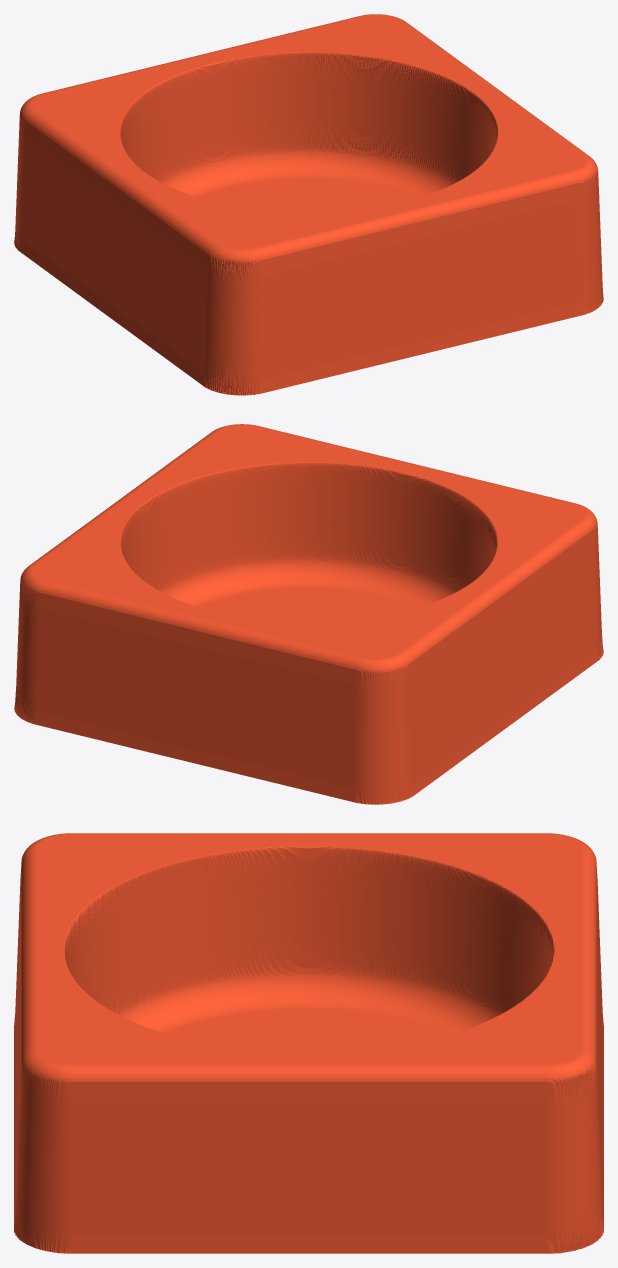
The model's file is mold.glb.
3 views of the same model, one above another, from view 1: azimuth 30°, elevation 25°; view 2: azimuth 150°, elevation 25°; view 3: azimuth 270°, elevation 25° (orthographic). The views are drawn at different scales.
Parts seen in each view (by area): view 1: geometry_0; view 2: geometry_0; view 3: geometry_0.
Part boxes in pixels (<box>): geometry_0: <box>14,14,603,395</box>; geometry_0: <box>14,424,603,804</box>; geometry_0: <box>14,833,603,1253</box>.
Bounding box in the file's own units: 0.0924 × 0.031 × 0.0924.
